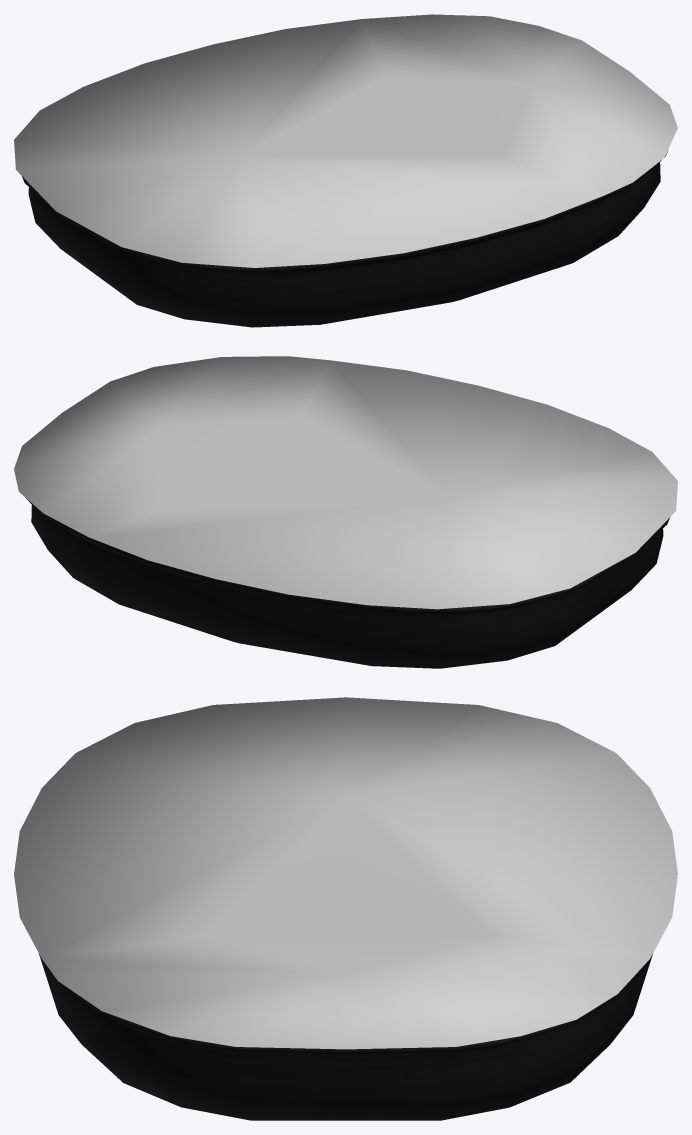
File: fastfood_box_wrapped.dae
3 renders of one model, top to bottom at view 1: azimuth 30°, elevation 25°; view 2: azimuth 150°, elevation 25°; view 3: azimuth 270°, elevation 25°, orthographic. The views are drawn at different scales.
Visible parts, largest first — view 1: pCube16, pCube15; view 2: pCube16, pCube15; view 3: pCube16, pCube15.
Boxes of the visible parts, x1,y1,x2,y2 form: pCube16: (14, 14, 677, 267); pCube15: (22, 151, 667, 327); pCube16: (14, 356, 677, 609); pCube15: (25, 497, 669, 668); pCube16: (14, 697, 677, 1049); pCube15: (39, 954, 652, 1120).
Size of the model in its own units: 0.3586 by 0.056 by 0.2858.
